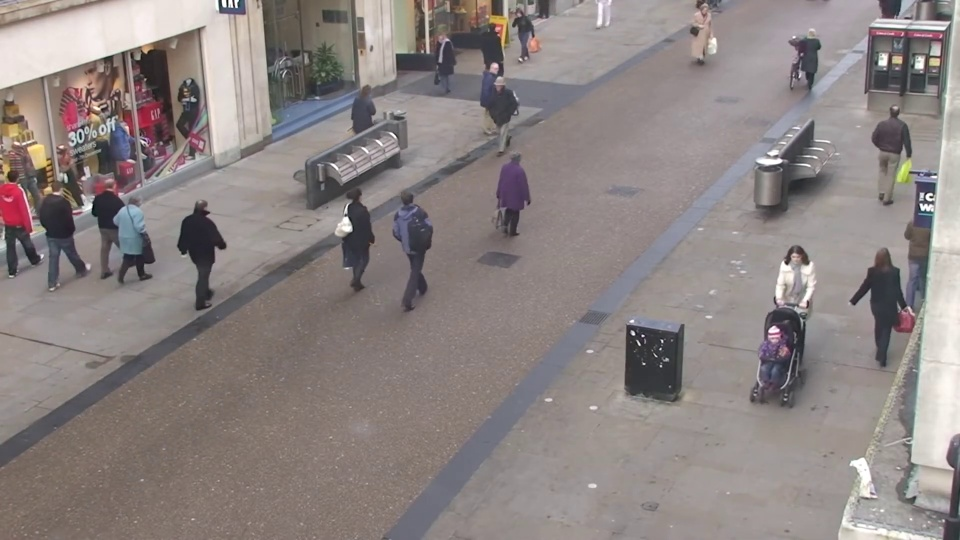pedestrian: (741, 321, 795, 471), (852, 235, 905, 364), (766, 248, 814, 379), (0, 163, 55, 270), (44, 171, 96, 279), (122, 183, 169, 294), (192, 191, 237, 305), (99, 170, 146, 277), (348, 178, 388, 290), (395, 177, 434, 289), (872, 100, 914, 195), (506, 142, 540, 246), (360, 80, 391, 165), (482, 76, 511, 161), (488, 61, 516, 141), (794, 22, 824, 95), (426, 29, 452, 100), (486, 19, 510, 88), (692, 4, 716, 70), (506, 7, 529, 72)
